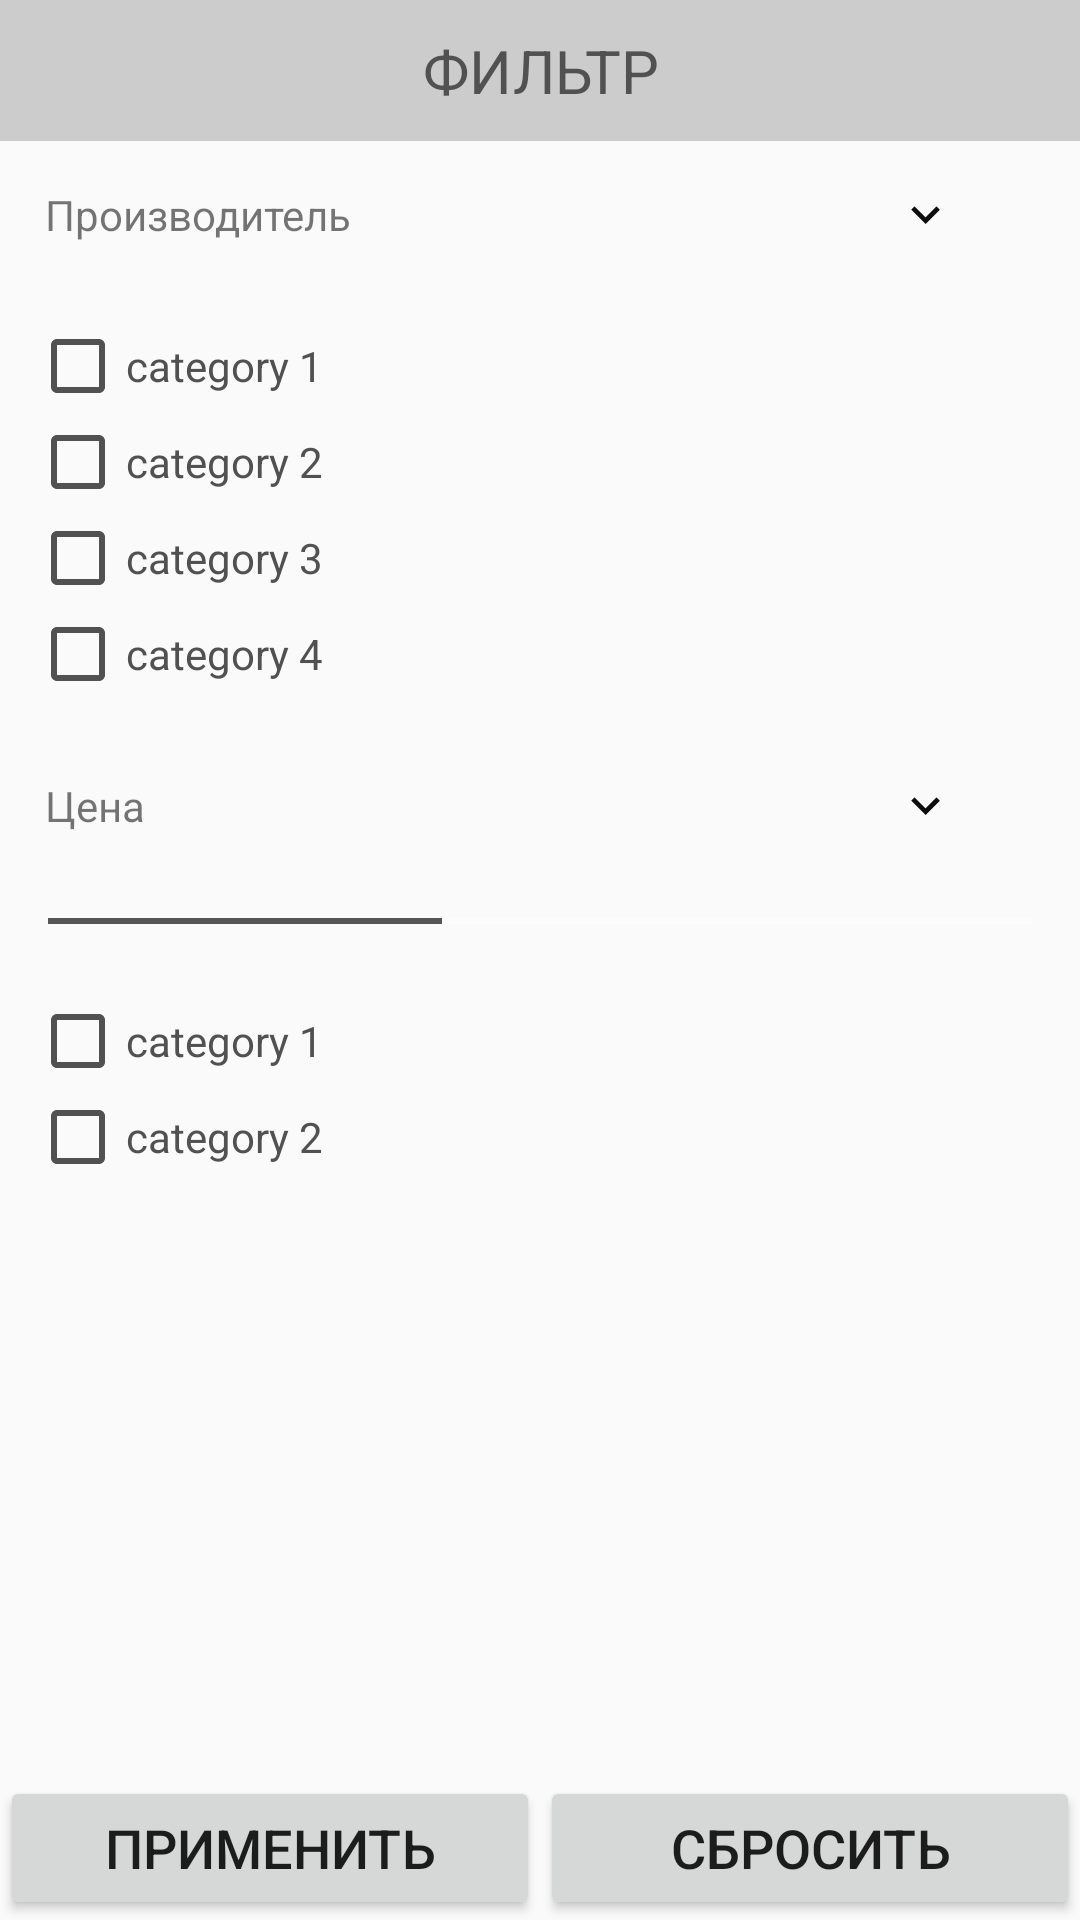

Named icons in this screenshot (1080×1920) and their bounding boxes, (x1=x1, y1=y1, x2=x2, y2=y2):
arrow bottom: (x1=911, y1=206, x2=940, y2=224), (x1=911, y1=797, x2=940, y2=815)
